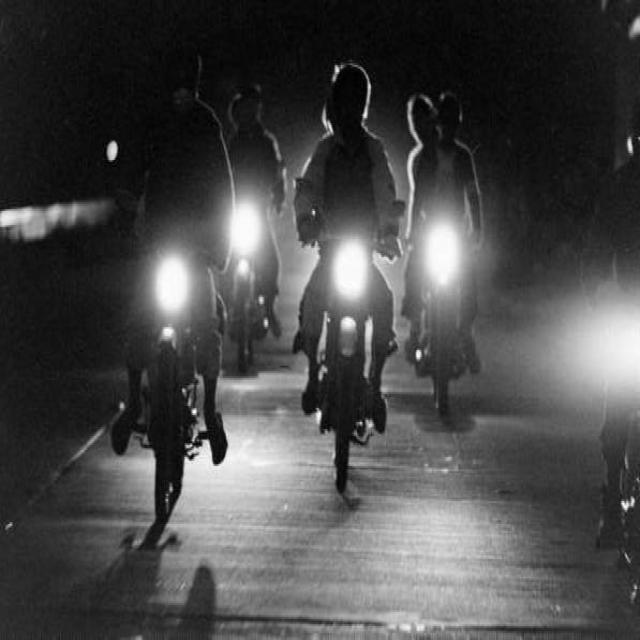Motorbike: (299, 228, 382, 479), (408, 205, 473, 408), (225, 177, 289, 348)
People: (291, 42, 399, 426), (124, 53, 233, 257), (427, 85, 482, 245), (404, 82, 446, 210), (238, 73, 281, 188), (226, 87, 246, 163)
